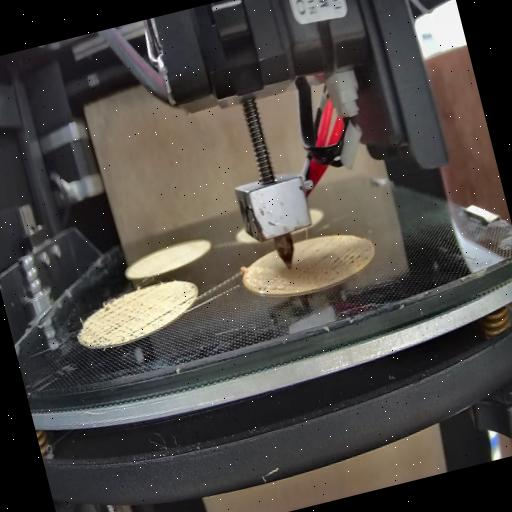under_extrusion: (75, 285, 177, 351), (296, 238, 376, 288), (252, 272, 290, 302), (176, 288, 200, 314)
